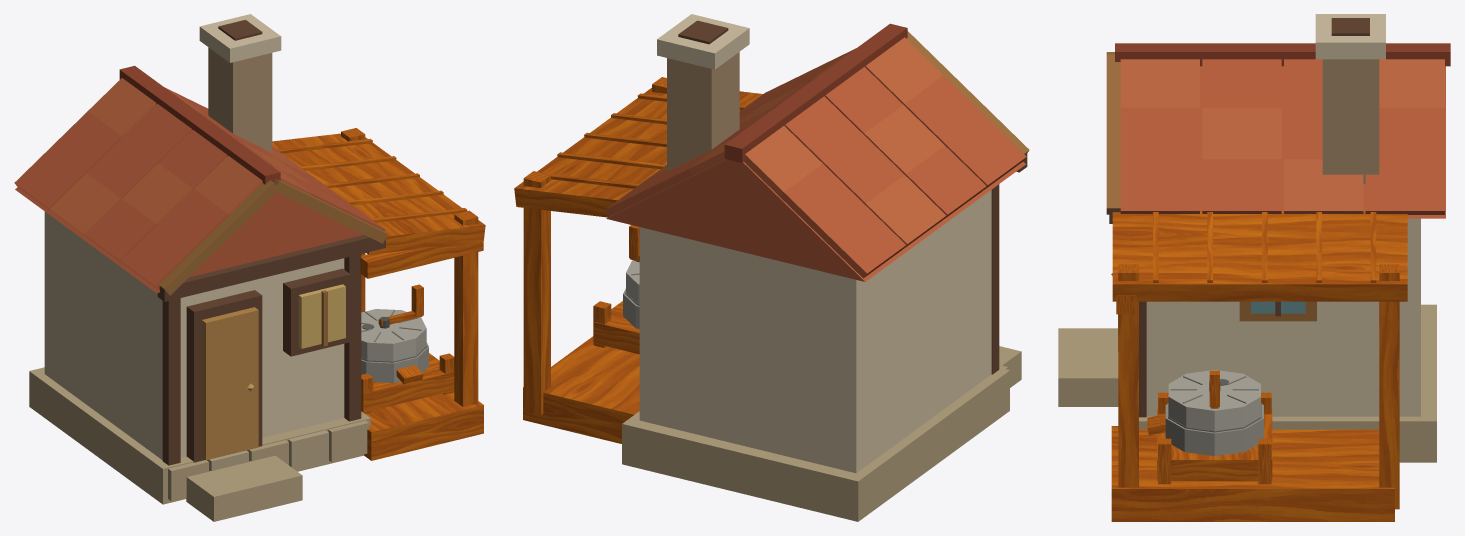
Rendered from mill.gltf.
3 renders of one model, left to right at view 1: azimuth 30°, elevation 25°; view 2: azimuth 150°, elevation 25°; view 3: azimuth 270°, elevation 25°, orthographic. The views are drawn at different scales.
Visible parts, largest first — view 1: mill; view 2: mill; view 3: mill.
Boxes of the visible parts, left/top/right/bottom form: mill: left=14, top=14, right=485, bottom=521; mill: left=514, top=14, right=1029, bottom=521; mill: left=1058, top=14, right=1450, bottom=521.
Size of the model in its own units: 1.92 by 2.03 by 1.73.
2 materials, 1 textured.
